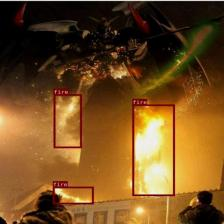fire: (132, 104, 175, 196), (53, 94, 82, 148), (52, 186, 94, 204)
